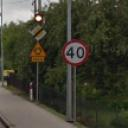speed_limit_40: (61, 38, 90, 68)
